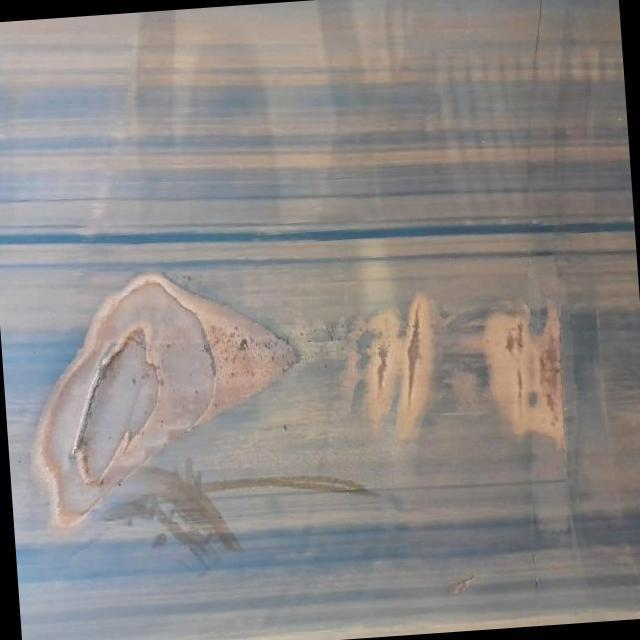Tear: (31, 255, 304, 540), (405, 293, 428, 414), (372, 323, 393, 405)
Wear: (482, 298, 581, 450)
